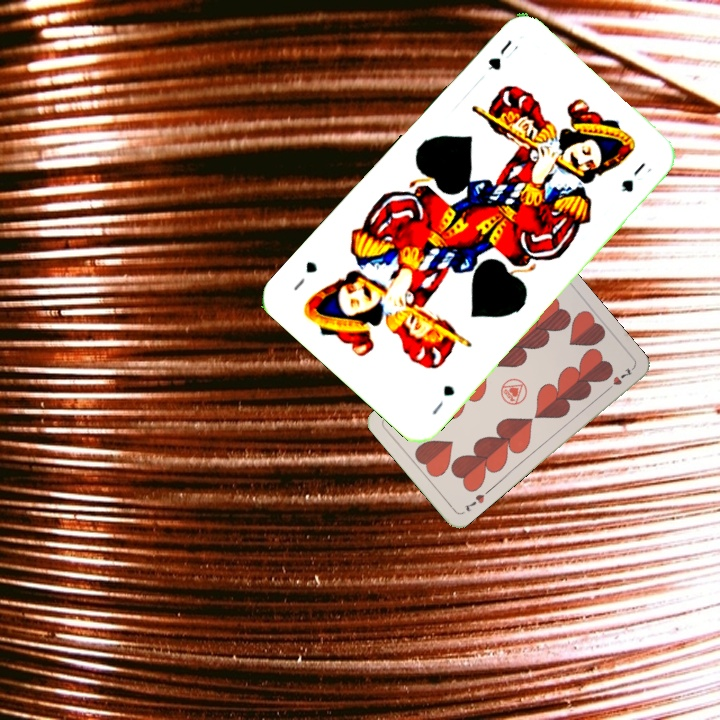GU: (484, 35, 522, 73), (428, 381, 458, 418)
H7: (460, 486, 492, 514)
